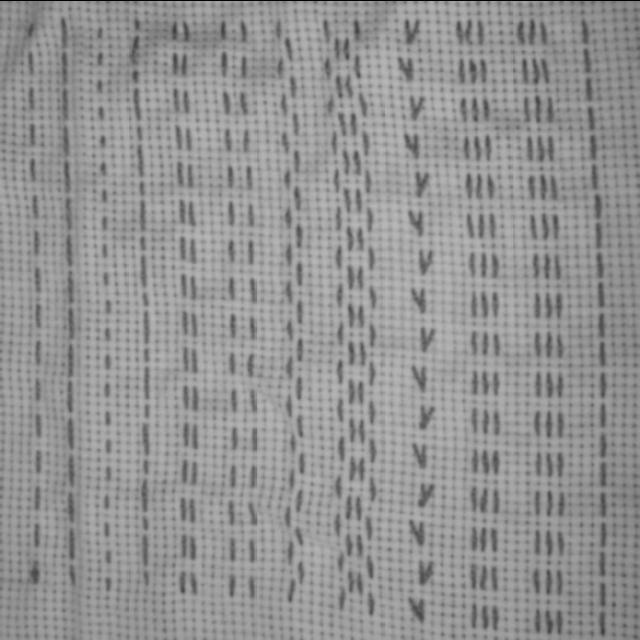stitch: (530, 58, 542, 83), (132, 87, 141, 120), (62, 160, 71, 192), (139, 254, 148, 286), (129, 35, 139, 63), (60, 16, 69, 47), (65, 234, 74, 265), (140, 480, 149, 511), (142, 310, 150, 344), (141, 534, 149, 566), (136, 144, 144, 176), (28, 156, 38, 181), (554, 292, 564, 317), (532, 293, 542, 318), (532, 330, 542, 355), (61, 52, 69, 83), (61, 88, 69, 119), (64, 197, 72, 228), (141, 423, 149, 454), (62, 125, 70, 155), (186, 535, 196, 559), (554, 254, 564, 278), (528, 19, 538, 43), (539, 175, 549, 199), (32, 484, 41, 510), (589, 133, 598, 159), (545, 371, 554, 397), (66, 382, 74, 411), (66, 418, 74, 447), (529, 215, 539, 238), (516, 20, 526, 43), (479, 488, 489, 511), (358, 92, 368, 115), (26, 50, 35, 75), (582, 47, 591, 72), (546, 135, 555, 160), (545, 96, 554, 121), (249, 277, 258, 302), (532, 410, 541, 435), (476, 19, 485, 44), (470, 406, 479, 431), (66, 274, 74, 302), (221, 91, 231, 113), (248, 316, 258, 338), (248, 389, 258, 411), (248, 465, 258, 487), (248, 502, 258, 524), (68, 455, 75, 486), (68, 528, 75, 559), (139, 200, 146, 231), (30, 559, 39, 583), (34, 302, 42, 329), (171, 87, 180, 111), (181, 422, 190, 446), (190, 425, 199, 449), (190, 349, 199, 373), (182, 88, 191, 112), (599, 522, 608, 546), (599, 433, 608, 457), (581, 19, 590, 43), (540, 58, 549, 82), (246, 240, 255, 264), (536, 136, 545, 160), (532, 490, 541, 514), (522, 96, 531, 120), (491, 253, 500, 277), (491, 488, 500, 512), (476, 213, 485, 237), (336, 437, 345, 461), (352, 149, 361, 173), (68, 308, 75, 338), (534, 95, 542, 121), (534, 371, 542, 397), (180, 459, 189, 482), (555, 609, 564, 632), (555, 570, 564, 593), (556, 531, 565, 554), (555, 334, 564, 357), (550, 176, 559, 199), (531, 253, 540, 276), (492, 411, 501, 434), (480, 605, 489, 628), (295, 338, 304, 361), (479, 527, 488, 550), (365, 555, 374, 578), (342, 188, 351, 211), (341, 36, 350, 59), (181, 346, 189, 371), (596, 252, 604, 277), (541, 213, 549, 238), (279, 132, 289, 152), (555, 373, 564, 395), (239, 91, 248, 113), (455, 20, 464, 42), (486, 175, 495, 197), (491, 292, 500, 314), (491, 333, 500, 355), (491, 371, 500, 393), (295, 300, 304, 322), (292, 187, 301, 209), (459, 98, 468, 120), (335, 322, 344, 344), (361, 131, 370, 153), (352, 54, 361, 76), (68, 492, 75, 520), (32, 523, 40, 547), (34, 413, 42, 437), (144, 366, 150, 398), (174, 124, 182, 148), (176, 161, 184, 185), (180, 273, 188, 297), (181, 310, 189, 334), (182, 385, 190, 409), (188, 201, 196, 225), (186, 163, 194, 187), (598, 551, 606, 575), (590, 164, 598, 188), (552, 213, 560, 237), (220, 51, 228, 75), (246, 353, 254, 377), (250, 427, 258, 451), (248, 538, 256, 562), (532, 568, 540, 592), (526, 136, 534, 160), (466, 213, 474, 237), (480, 292, 488, 316), (346, 225, 354, 249), (366, 207, 374, 231), (342, 149, 350, 173), (34, 265, 41, 292), (189, 572, 198, 593), (296, 562, 305, 583), (295, 490, 304, 511), (366, 592, 375, 613), (356, 305, 365, 326), (322, 19, 331, 40), (352, 19, 361, 40), (32, 231, 40, 254), (190, 461, 198, 484), (588, 106, 596, 129), (540, 20, 548, 43), (230, 426, 238, 449), (228, 351, 236, 374), (224, 128, 232, 151), (240, 55, 248, 78), (242, 128, 250, 151), (544, 332, 552, 355), (544, 531, 552, 554), (544, 609, 552, 632), (521, 59, 529, 82), (296, 414, 304, 437), (284, 36, 292, 59), (471, 98, 479, 121), (470, 330, 478, 353), (481, 410, 489, 433), (470, 527, 478, 550), (364, 516, 372, 539), (368, 362, 376, 385), (364, 169, 372, 192), (338, 112, 346, 135), (350, 112, 358, 135), (599, 371, 606, 397), (68, 345, 74, 375), (31, 195, 39, 217), (180, 534, 188, 556), (190, 276, 198, 298), (598, 611, 606, 633), (594, 195, 602, 217), (228, 574, 236, 596), (230, 389, 238, 411), (240, 20, 248, 42), (528, 175, 536, 197), (482, 98, 490, 120), (490, 528, 498, 550), (490, 567, 498, 589), (481, 332, 489, 354), (471, 371, 479, 393), (481, 371, 489, 393), (481, 450, 489, 472), (368, 401, 376, 423), (332, 169, 340, 191), (599, 491, 606, 516), (598, 281, 605, 306), (595, 221, 602, 246), (178, 571, 186, 592), (192, 386, 199, 410), (189, 238, 196, 262), (599, 581, 606, 605), (599, 462, 606, 486), (599, 402, 606, 426), (599, 341, 606, 365), (598, 313, 605, 337), (585, 76, 592, 100), (558, 492, 565, 516), (228, 201, 235, 225), (229, 313, 236, 337), (545, 411, 552, 435), (545, 491, 552, 515), (534, 530, 541, 554), (480, 59, 488, 80), (489, 212, 496, 236), (492, 451, 500, 472), (286, 542, 294, 563), (291, 112, 299, 133), (280, 94, 288, 115), (458, 59, 465, 83), (332, 514, 340, 535), (357, 458, 365, 479), (348, 378, 355, 402), (356, 381, 364, 402), (344, 75, 352, 96), (275, 58, 284, 76), (35, 449, 42, 472), (34, 378, 41, 401), (34, 340, 41, 363), (189, 499, 196, 522), (245, 165, 252, 188), (534, 609, 541, 632), (465, 19, 472, 42), (492, 605, 499, 628), (295, 262, 302, 285), (474, 136, 481, 159), (344, 495, 351, 518), (348, 418, 355, 441), (335, 359, 342, 382), (334, 245, 341, 268), (346, 265, 353, 288), (357, 266, 364, 289), (368, 246, 375, 269), (355, 188, 362, 211), (182, 20, 190, 40), (462, 137, 470, 157), (356, 228, 364, 248), (330, 132, 338, 152), (558, 411, 564, 437), (29, 123, 36, 145), (28, 86, 35, 108), (171, 52, 178, 74), (179, 236, 186, 258), (191, 314, 198, 336), (181, 52, 188, 74), (228, 276, 235, 298), (288, 579, 295, 601), (545, 453, 552, 475), (535, 453, 542, 475), (295, 224, 302, 246), (479, 566, 486, 588), (471, 449, 478, 471), (369, 478, 376, 500), (348, 457, 355, 479), (358, 419, 365, 441), (369, 439, 376, 461), (348, 341, 355, 363), (369, 286, 376, 308), (334, 207, 341, 229), (325, 96, 334, 113), (170, 20, 178, 39), (336, 552, 344, 571), (229, 465, 236, 486), (228, 240, 235, 261), (248, 204, 255, 225), (248, 576, 255, 597), (295, 377, 302, 398), (289, 75, 296, 96), (468, 252, 475, 273), (334, 475, 341, 496), (359, 342, 366, 363), (369, 324, 376, 345), (335, 75, 342, 96), (179, 199, 185, 223), (544, 253, 550, 277), (545, 293, 551, 317), (485, 135, 491, 159), (294, 526, 302, 544), (470, 563, 476, 587), (470, 486, 476, 510), (285, 395, 292, 415), (285, 357, 292, 377), (285, 281, 292, 301), (335, 285, 342, 305), (545, 570, 551, 593), (470, 604, 476, 627), (294, 149, 300, 172), (470, 59, 476, 82), (465, 173, 471, 196), (480, 253, 486, 276), (470, 293, 476, 316), (355, 496, 361, 519), (336, 398, 342, 421), (102, 382, 111, 397), (219, 20, 226, 39), (284, 208, 291, 227), (274, 19, 281, 38), (186, 127, 192, 149), (228, 165, 234, 187), (475, 175, 481, 197), (334, 36, 340, 58), (138, 180, 146, 196), (179, 498, 185, 519), (285, 244, 292, 262), (355, 574, 362, 592), (348, 304, 354, 325), (324, 58, 331, 76), (229, 499, 234, 524), (100, 188, 108, 203), (142, 403, 150, 418), (231, 536, 236, 560), (339, 588, 345, 608), (348, 571, 354, 591), (356, 535, 362, 555), (285, 321, 292, 338), (284, 507, 290, 526), (299, 453, 305, 472), (284, 169, 290, 188), (102, 494, 110, 508), (104, 353, 111, 369), (142, 347, 150, 361), (288, 471, 295, 487), (69, 566, 75, 584), (95, 27, 104, 39), (104, 576, 111, 591), (104, 298, 111, 313), (142, 459, 149, 474), (559, 453, 564, 474), (101, 244, 109, 257), (96, 106, 104, 119), (131, 70, 139, 83), (346, 534, 351, 554), (104, 439, 111, 453), (104, 411, 111, 425), (99, 161, 106, 175), (28, 22, 34, 38), (132, 18, 140, 30), (104, 550, 111, 563), (104, 328, 111, 341), (102, 272, 109, 285), (101, 216, 108, 229), (95, 79, 102, 92), (142, 571, 149, 584), (142, 292, 149, 305), (139, 236, 146, 249), (96, 51, 102, 66), (136, 124, 142, 139), (290, 435, 295, 452), (104, 522, 110, 536), (105, 466, 111, 480), (99, 135, 106, 147), (142, 518, 149, 530)
